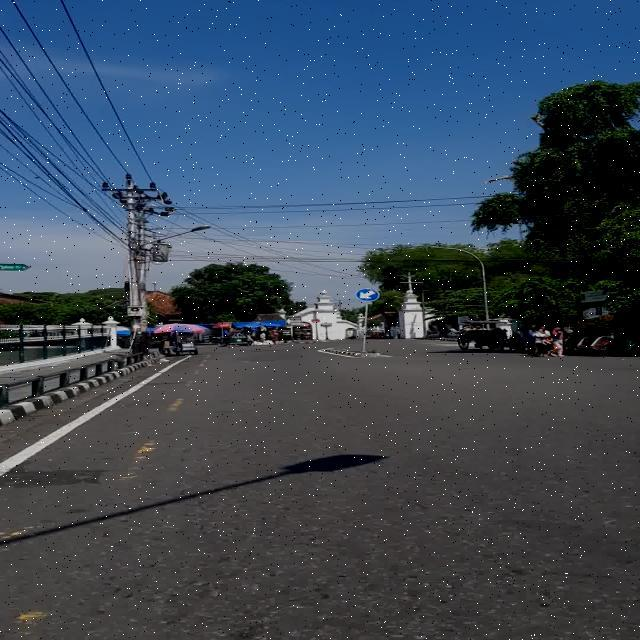Lajur Kiri: (356, 288, 380, 302)
